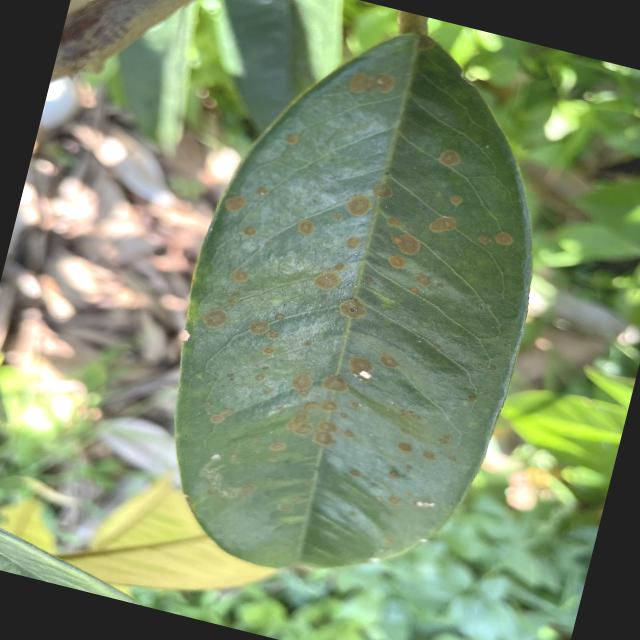Algal Leaf Spot: (119, 0, 599, 627)
